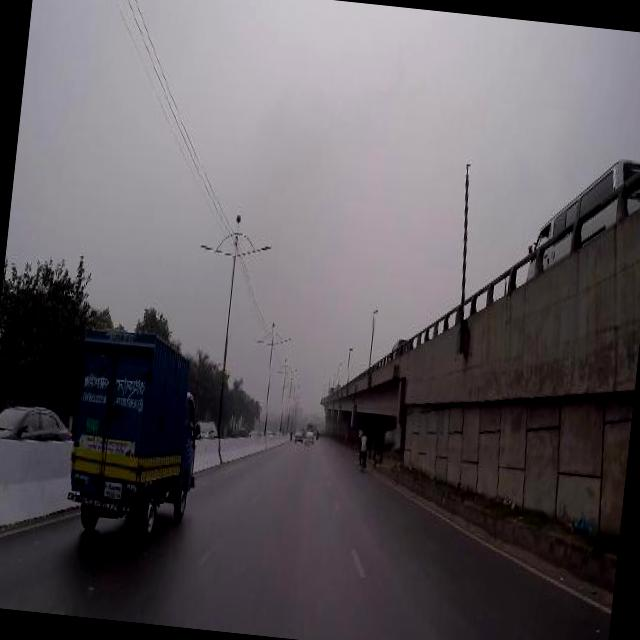car: (0, 395, 74, 444), (305, 430, 315, 444), (294, 428, 304, 442)
truck: (61, 318, 211, 542), (524, 137, 640, 295), (195, 414, 220, 440)
